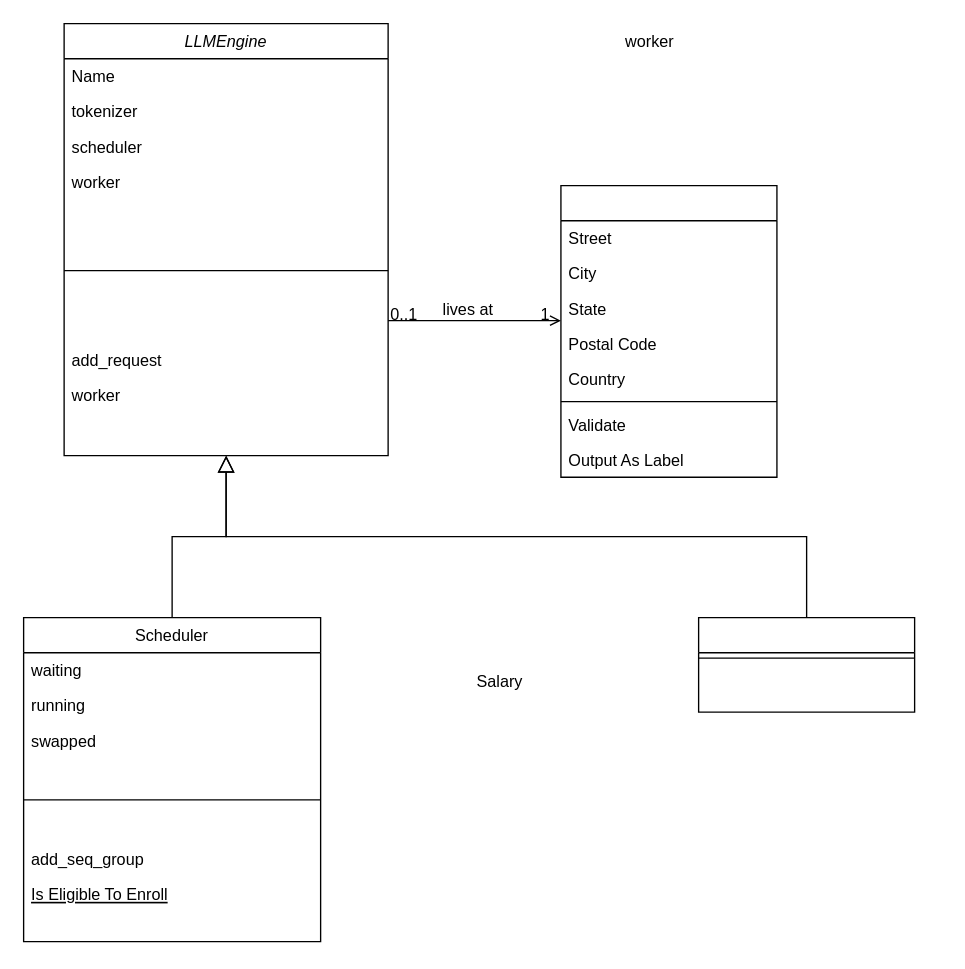
This 965x969 diagram has some shape labels left out. Here are the shapes that lost their labels. From the top down, the box of each, then its label:
(560, 184, 777, 477): Address
(697, 616, 915, 712): Professor
